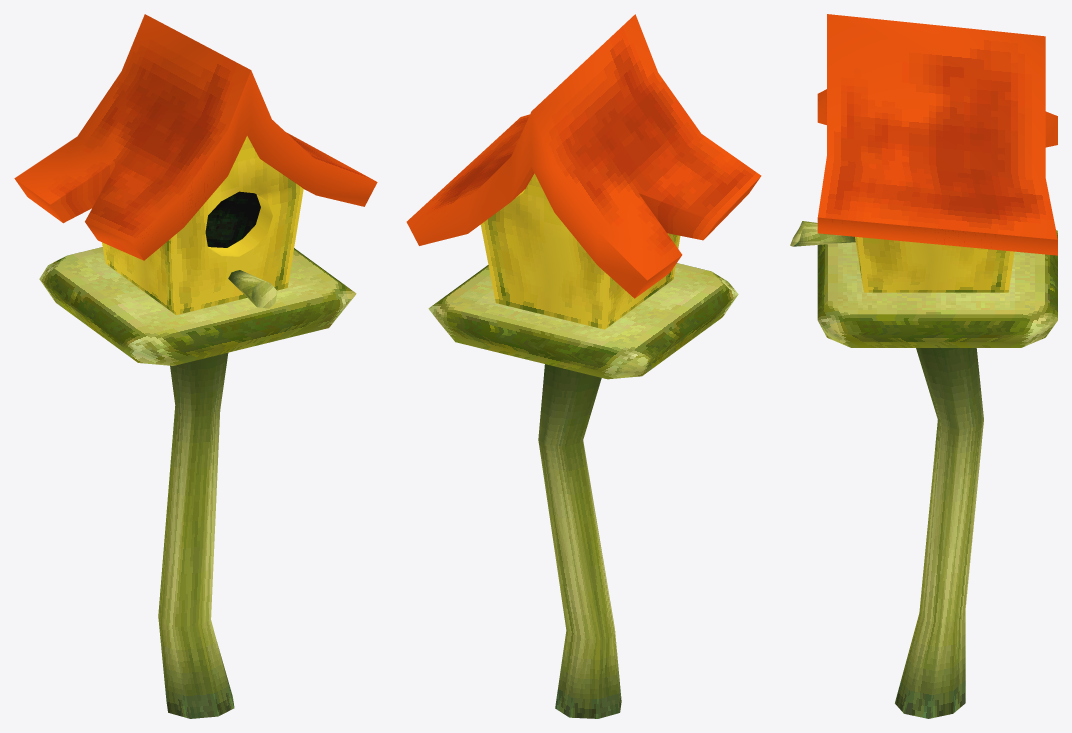
Rendered from a-bird-1.glb.
3 renders of one model, left to right at view 1: azimuth 30°, elevation 25°; view 2: azimuth 150°, elevation 25°; view 3: azimuth 270°, elevation 25°, orthographic. The views are drawn at different scales.
Visible parts, largest first — view 1: a_bird_1; view 2: a_bird_1; view 3: a_bird_1.
Part boxes in pixels (bbox=[...]): a_bird_1: bbox=[14, 14, 377, 718]; a_bird_1: bbox=[406, 14, 761, 718]; a_bird_1: bbox=[790, 14, 1057, 718].
Size of the model in its own units: 95 by 247 by 87.
Materials: 5 (5 with a texture image).
